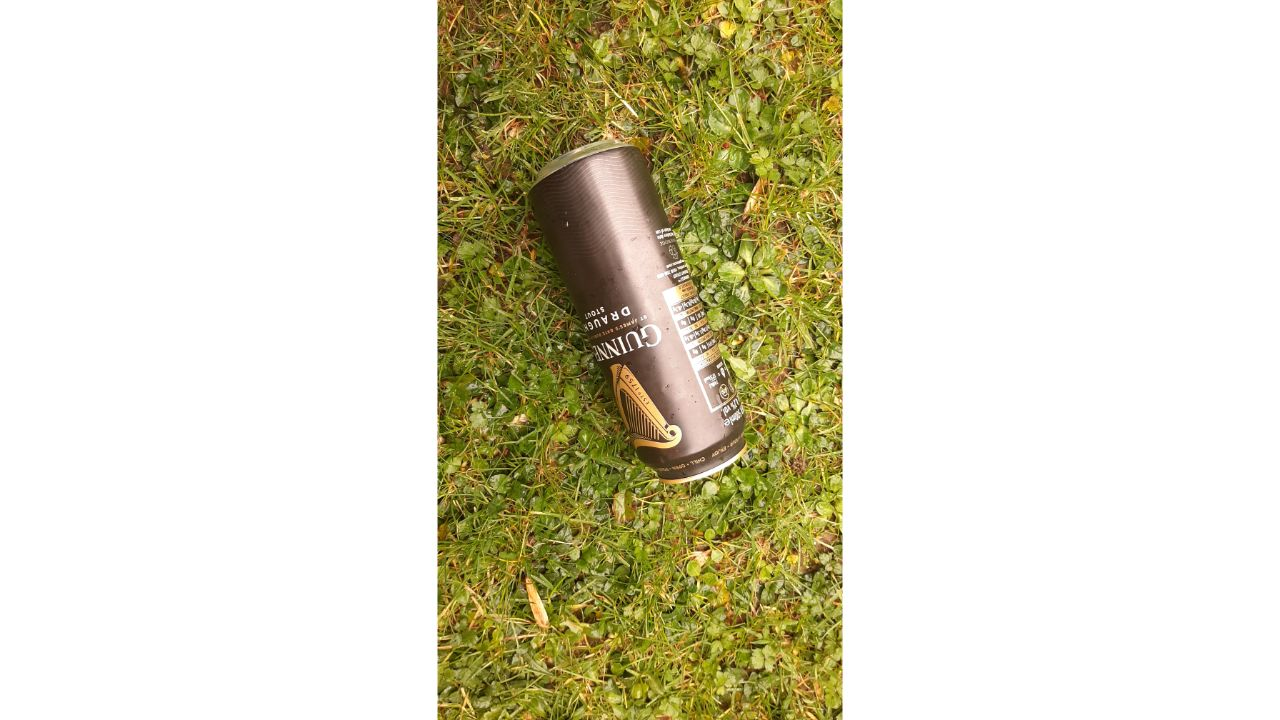Can: (517, 127, 757, 500)
